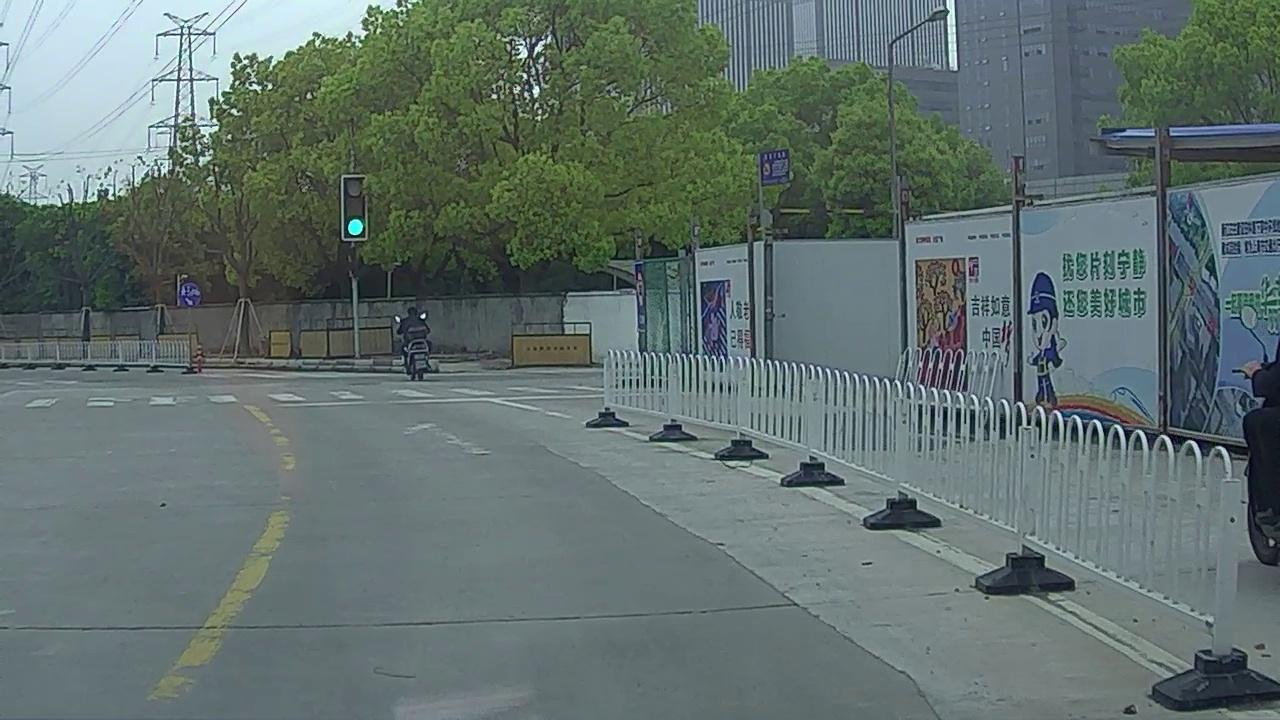traffic_light: (344, 177, 365, 236)
